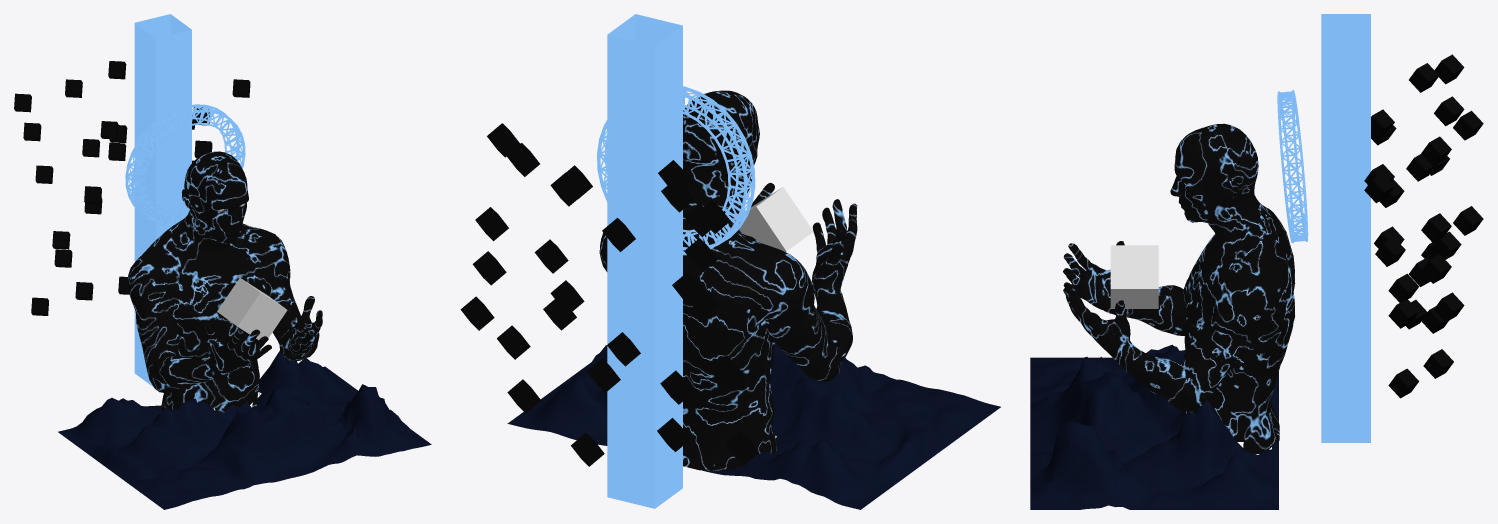
The model's file is Demon-transformed.glb.
3 renders of one model, left to right at view 1: azimuth 30°, elevation 25°; view 2: azimuth 150°, elevation 25°; view 3: azimuth 270°, elevation 25°, orthographic. The views are drawn at different scales.
Visible parts, largest first — view 1: Landscape, Man, Pillar, Box_002, Truss_Bridge, Box_001; view 2: Man, Pillar, Landscape, Box_002, Truss_Bridge, Box_001; view 3: Man, Landscape, Pillar, Box_002, Box_001, Truss_Bridge.
Boxes of the visible parts, <box> form: Landscape: <box>58,350,431,509</box>; Man: <box>127,151,322,412</box>; Pillar: <box>134,14,191,386</box>; Box_002: <box>14,61,250,315</box>; Truss_Bridge: <box>125,104,245,226</box>; Box_001: <box>217,278,287,339</box>; Man: <box>599,90,857,470</box>; Pillar: <box>607,14,682,508</box>; Landscape: <box>507,342,1000,509</box>; Box_002: <box>460,123,758,466</box>; Truss_Bridge: <box>597,86,755,255</box>; Box_001: <box>735,187,813,251</box>; Man: <box>1063,123,1295,453</box>; Landscape: <box>1030,344,1278,509</box>; Pillar: <box>1321,14,1370,442</box>; Box_002: <box>1364,54,1483,398</box>; Box_001: <box>1110,245,1158,308</box>; Truss_Bridge: <box>1277,90,1308,243</box>.
Size of the model in its own units: 2.42 by 3.04 by 3.05.
Materials: 7 (1 with a texture image).
